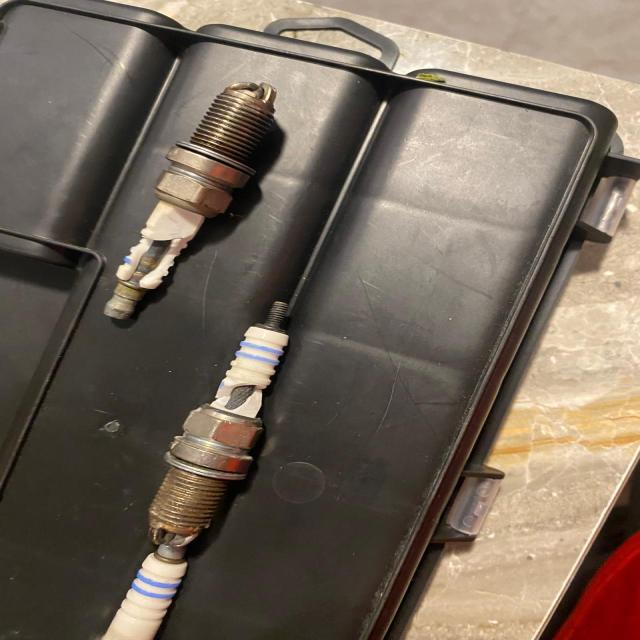damaged_spark-plug: (95, 74, 304, 328), (144, 293, 304, 557)
